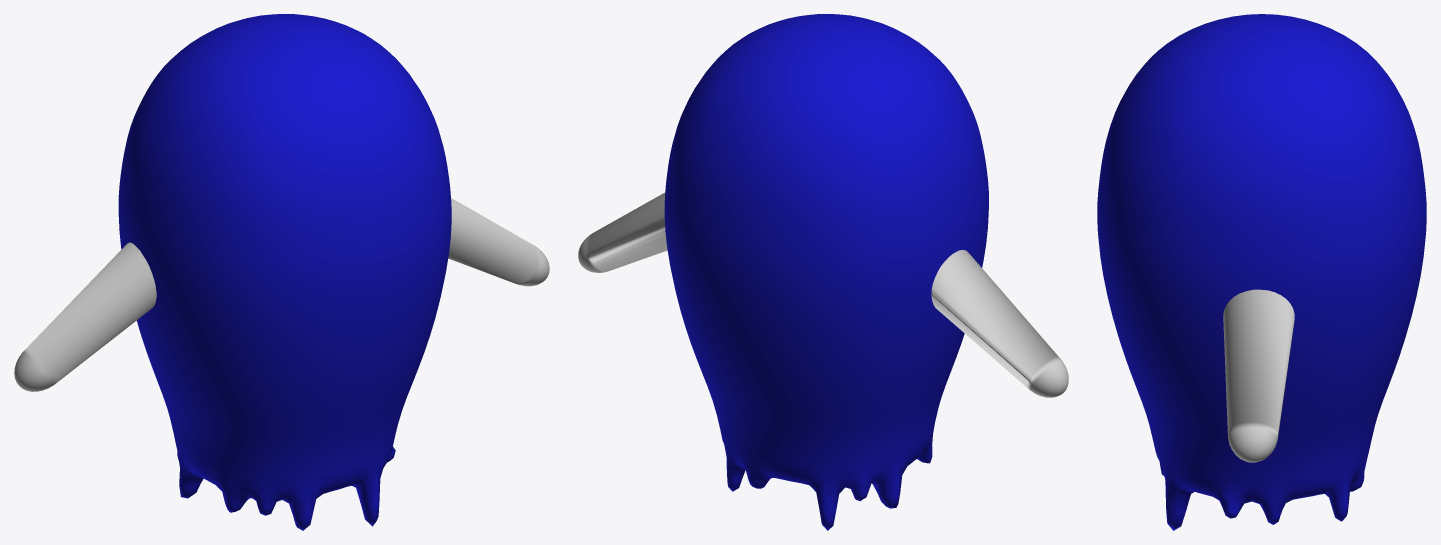
The model's file is afterThrow_000036.obj.
3 views of the same model, side by side, from view 1: azimuth 30°, elevation 25°; view 2: azimuth 150°, elevation 25°; view 3: azimuth 270°, elevation 25° (orthographic). The views are drawn at different scales.
Visible parts, largest first — view 1: Cube, Sphere.001, Sphere; view 2: Cube, Sphere.001, Sphere; view 3: Cube, Sphere.
Boxes of the visible parts, x1,y1,x2,y2 form: Cube: (118, 14, 451, 530); Sphere.001: (14, 242, 156, 391); Sphere: (448, 198, 549, 286); Cube: (664, 14, 988, 530); Sphere.001: (931, 250, 1068, 397); Sphere: (578, 192, 667, 272); Cube: (1097, 14, 1426, 530); Sphere: (1223, 289, 1294, 462).
Size of the model in its own units: 0.5186 by 0.4582 by 0.2859.
